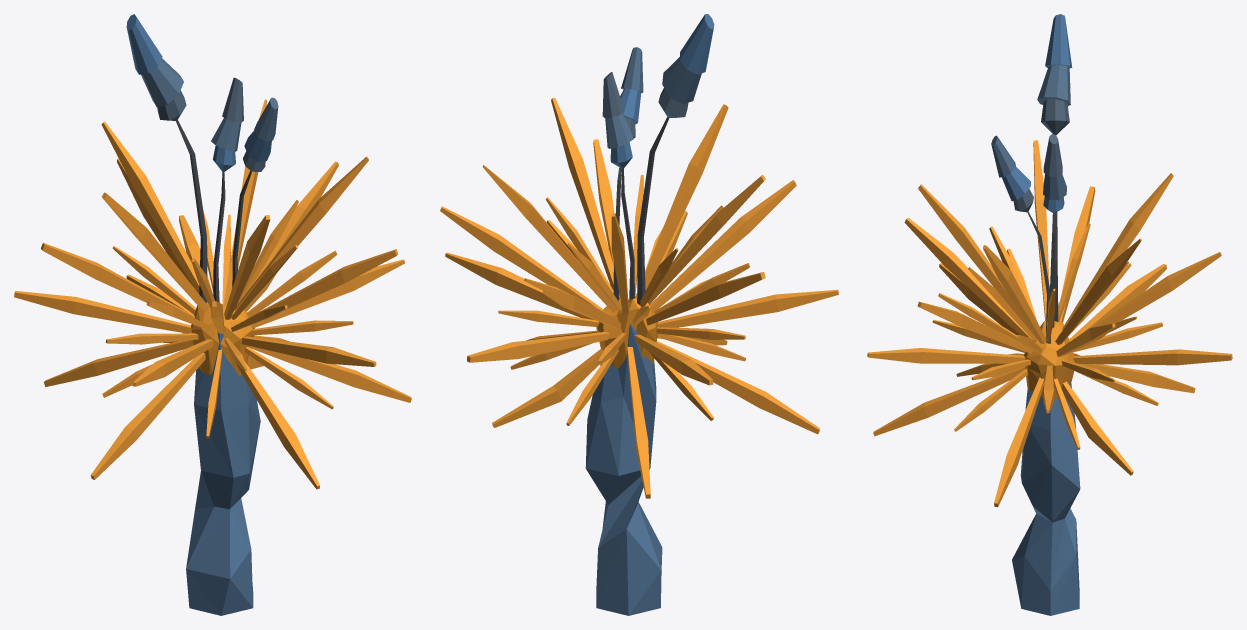
The model's file is AW_Tree01.fbx.
The picture shows the model from 3 angles, left to right: view 1: azimuth 30°, elevation 25°; view 2: azimuth 150°, elevation 25°; view 3: azimuth 270°, elevation 25°; orthographic projection. The views are drawn at different scales.
Visible parts, largest first — view 1: AW_Tree01; view 2: AW_Tree01; view 3: AW_Tree01.
Boxes of the visible parts, left/top/right/bottom form: AW_Tree01: left=14, top=14, right=411, bottom=615; AW_Tree01: left=440, top=14, right=838, bottom=615; AW_Tree01: left=867, top=14, right=1232, bottom=615.
Bounding box in the file's own units: 258 × 436 × 261.
1 material, 1 textured.
